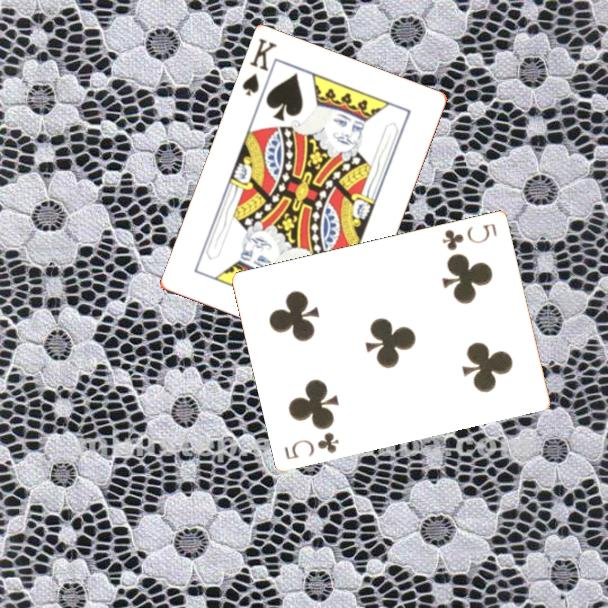c05: (439, 219, 500, 253), (281, 428, 342, 462)
s13: (239, 35, 280, 99)
